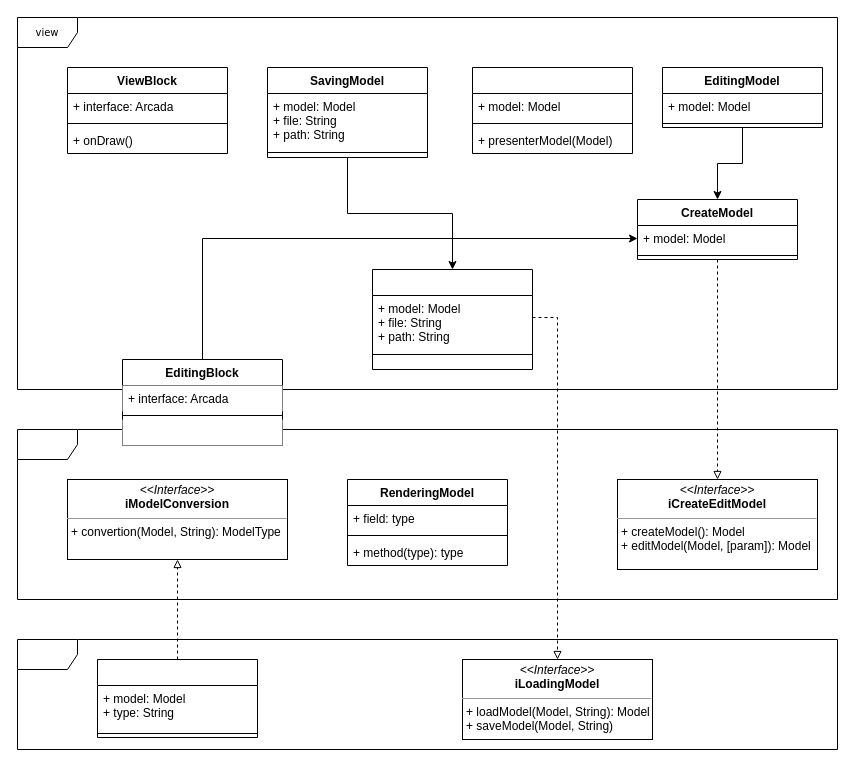
The diagram is 855 pixels wide and 767 high, and some of its shapes have lost their labels. Here are the shapes that lost their labels. From the top down, the box of each, then its label:
(472, 66, 632, 154): ViewingModel
(372, 268, 532, 370): LoadingModel
(16, 428, 838, 600): business logic
(96, 658, 258, 738): ModelConversion
(16, 638, 838, 750): DATA
